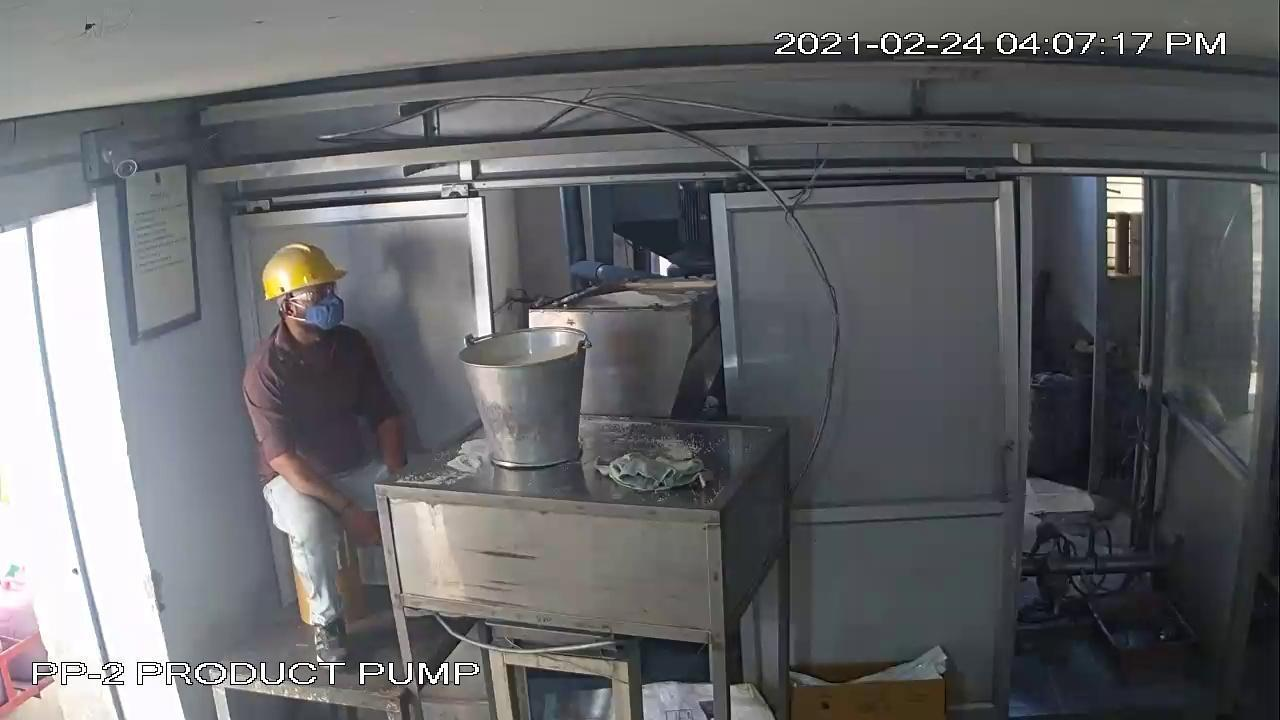helmet: (246, 238, 356, 309)
